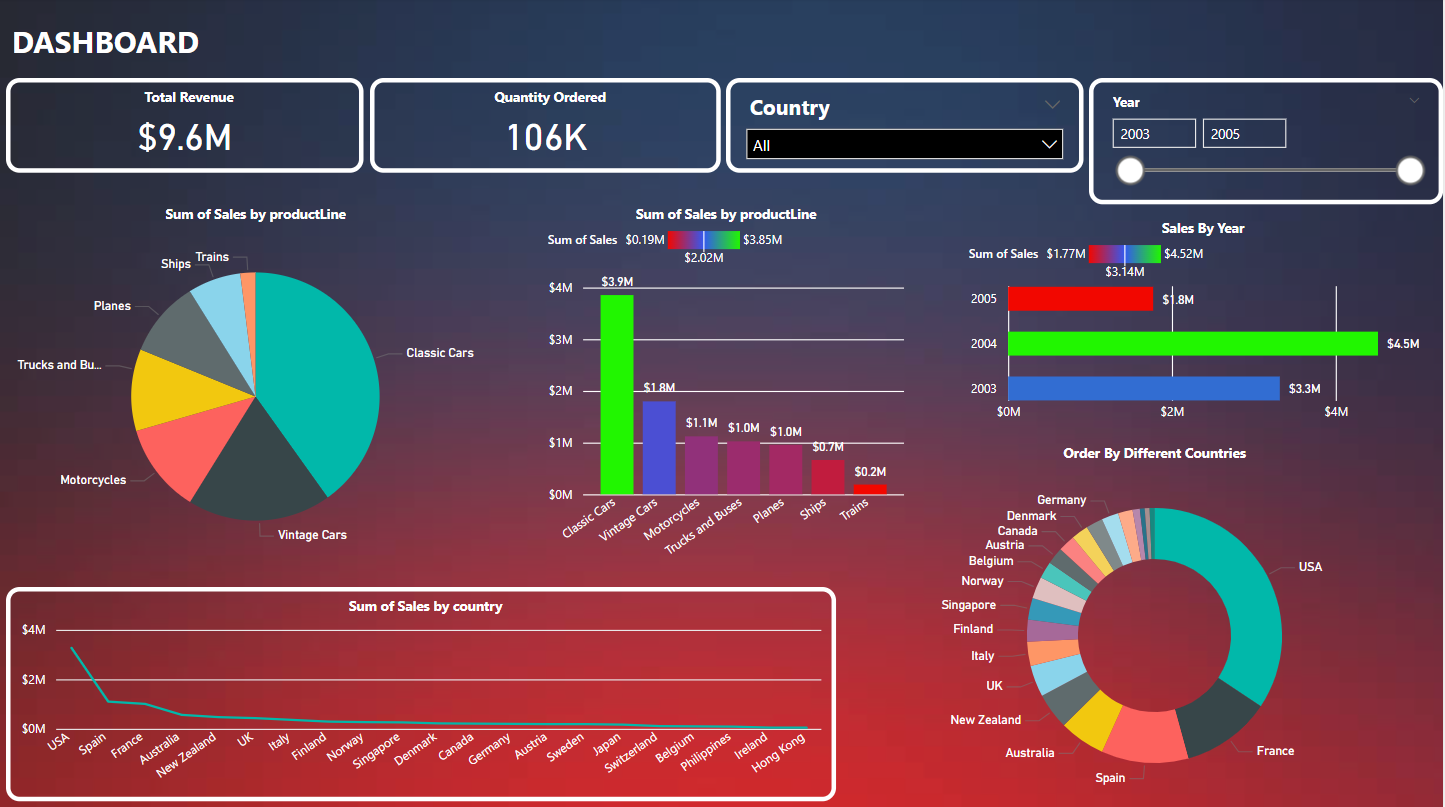

What the dashboard file says about the page in this screenshot:
{"tool":"powerbi","page":{"name":"Page 1","canvas":[1280,720],"ordinal":0},"visuals":[{"type":"pieChart","fields":{"Y":["Sum(order details.Sales)"],"Category":["productline.productLine"]},"box":[6.2,182.7,442.5,325.4],"z":0},{"type":"clusteredColumnChart","fields":{"Y":["Sum(order details.Sales)"],"Category":["productline.productLine"]},"box":[481.5,182.7,326.3,325.4],"z":1000},{"type":"card","title":"Total Revenue","fields":{"Values":["Sum(order details.Sales)"]},"box":[6.2,70.9,316.6,84.2],"z":2000},{"type":"donutChart","title":"Order By Different Countries","fields":{"Category":["customers.country"],"Y":["Sum(orders.year_of_order)"]},"box":[768.8,394.6,511.6,325.4],"z":3000},{"type":"card","title":"Quantity Ordered","fields":{"Values":["Sum(order details.quantityOrdered)"]},"box":[329,70.9,311.2,84.2],"z":4000},{"type":"barChart","title":"Sales By Year","fields":{"Category":["orders.year_of_order"],"Y":["Sum(order details.Sales)"]},"box":[854.8,195.1,425.6,189.8],"z":5000},{"type":"lineChart","fields":{"Y":["Sum(order details.Sales)"],"Category":["customers.country"]},"box":[6.2,522.3,736,189.8],"z":6000},{"type":"slicer","fields":{"Values":["orders.year_of_order"]},"box":[962.1,70.9,313.9,111.7],"z":7000},{"type":"textbox","box":[6.2,15.1,955.9,48.8],"z":8000},{"type":"slicer","title":"Profit on Sale","fields":{"Values":["customers.country"]},"box":[644.6,70.9,310.3,84.2],"z":9000}]}

Visuals, with their boxes in screenshot pixels (x1, y1, x2, y2), scaled from the page's 1280x720 canvas onto the 1445x807 screenshot:
pieChart - Sum(order details.Sales) x productline.productLine: <bbox>7, 205, 507, 569</bbox>
clusteredColumnChart - Sum(order details.Sales) x productline.productLine: <bbox>544, 205, 912, 569</bbox>
"Total Revenue" card: <bbox>7, 79, 364, 174</bbox>
"Order By Different Countries" donutChart: <bbox>868, 442, 1444, 806</bbox>
"Quantity Ordered" card: <bbox>371, 79, 723, 174</bbox>
"Sales By Year" barChart: <bbox>965, 219, 1444, 431</bbox>
lineChart - Sum(order details.Sales) x customers.country: <bbox>7, 585, 838, 798</bbox>
slicer - orders.year_of_order: <bbox>1086, 79, 1440, 205</bbox>
textbox: <bbox>7, 17, 1086, 72</bbox>
"Profit on Sale" slicer: <bbox>728, 79, 1078, 174</bbox>
